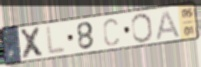8: (76, 21, 96, 51)
A: (155, 9, 182, 41)
C: (102, 18, 121, 48)
L: (45, 24, 67, 57)
O: (130, 12, 154, 44)
X: (18, 26, 47, 60)
